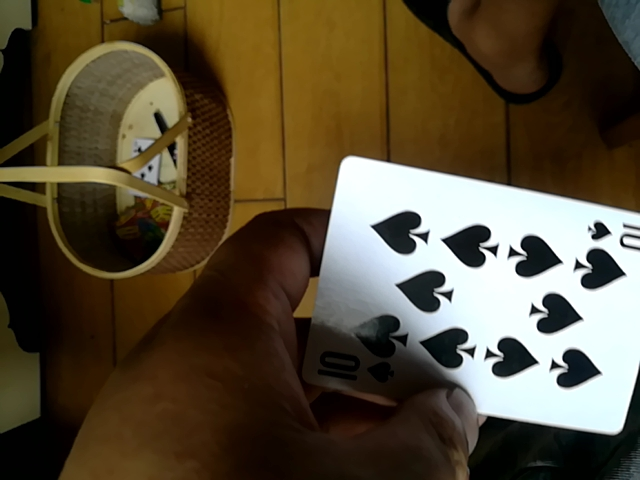ht 10: (309, 158, 639, 431)
